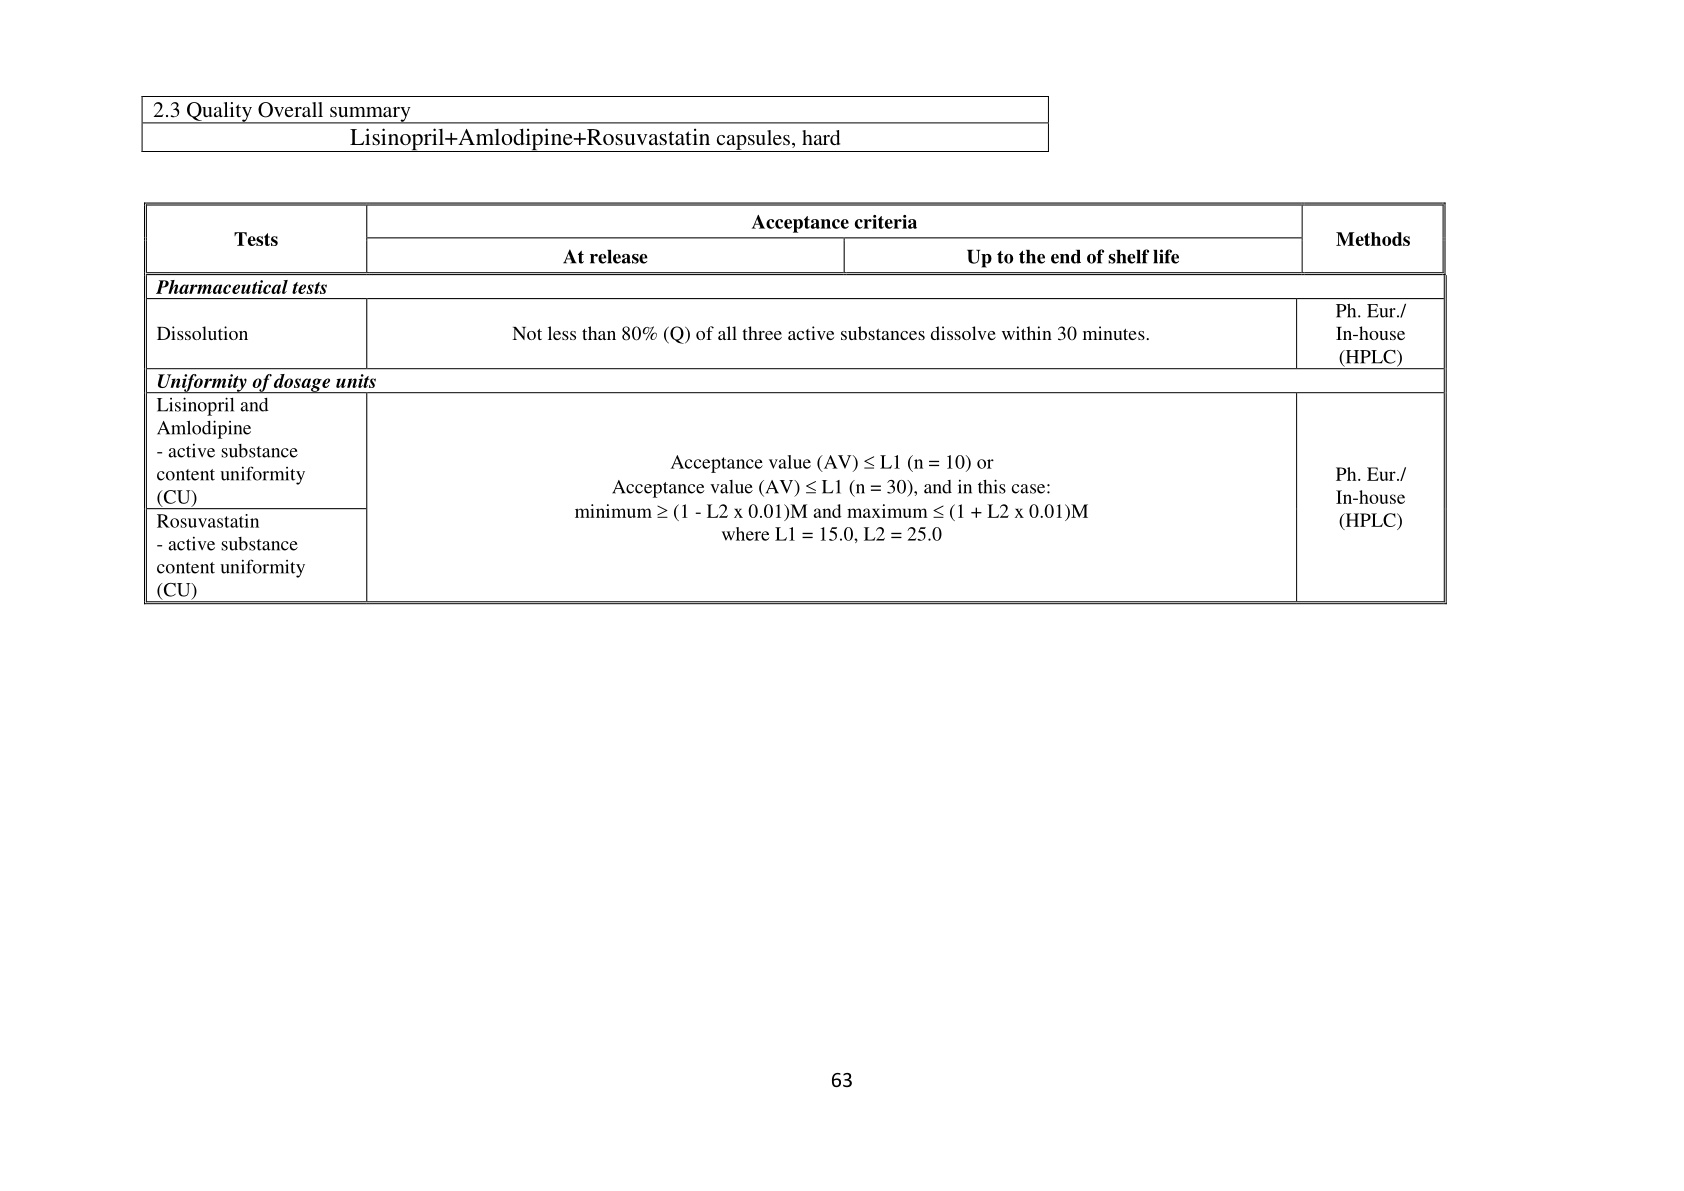full_lined: (140, 94, 1050, 153)
merged_cells: (143, 201, 1448, 605)
